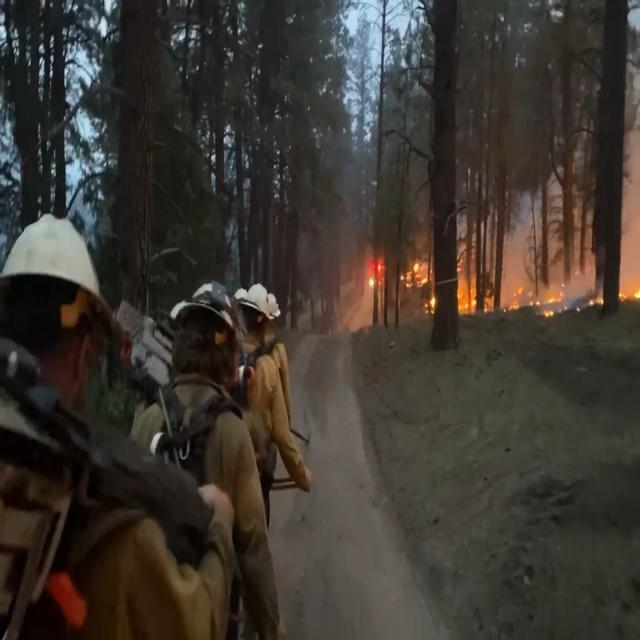Fire: (361, 228, 638, 317)
